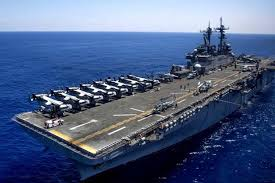tau_muctieu: (28, 31, 275, 170)
